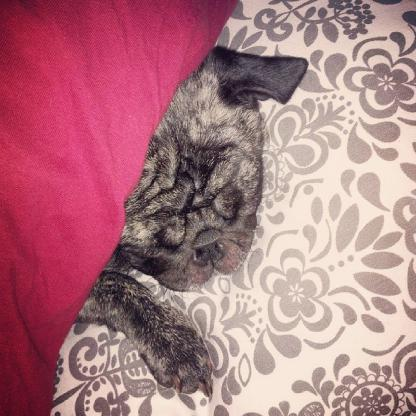Cat: (74, 43, 314, 397)
